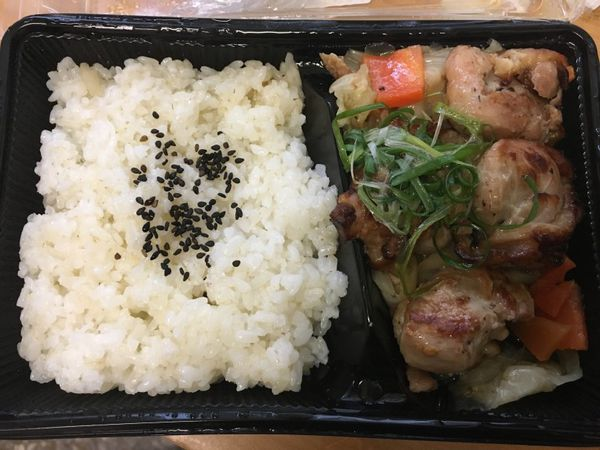rice: (53, 62, 297, 379)
